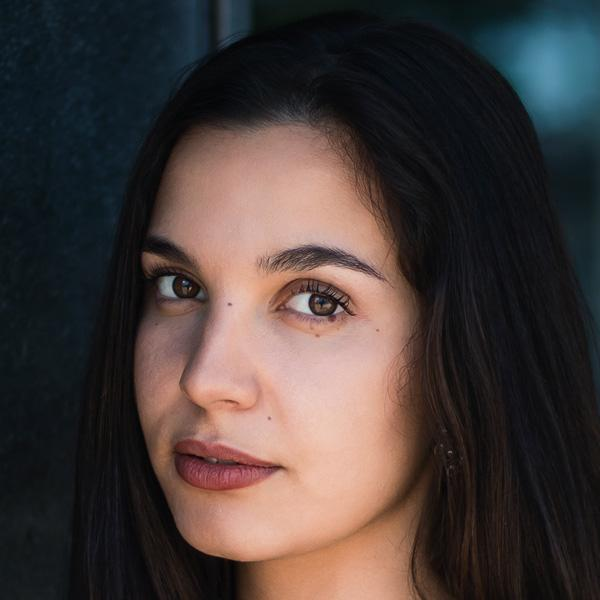Eyes: (264, 270, 361, 336), (141, 255, 214, 317)
